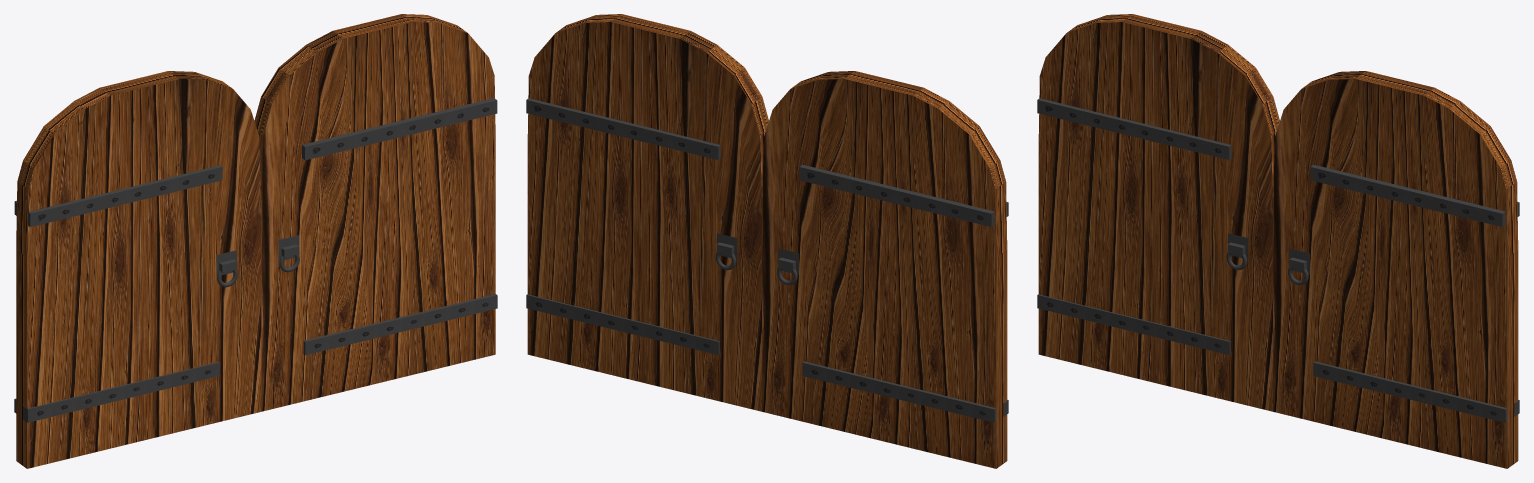
Rendered from cavedoor.glb.
3 views of the same model, side by side, from view 1: azimuth 30°, elevation 25°; view 2: azimuth 150°, elevation 25°; view 3: azimuth 330°, elevation 25° (orthographic).
Visible parts, largest first — view 1: Cube.001, Cube.005; view 2: Cube.001, Cube.005; view 3: Cube.005, Cube.001.
Part boxes in pixels (box(x1,y1,x2,y2)): Cube.001: box(14, 71, 261, 468); Cube.005: box(254, 14, 497, 411); Cube.001: box(762, 71, 1008, 468); Cube.005: box(526, 14, 768, 411); Cube.005: box(1273, 71, 1519, 468); Cube.001: box(1037, 14, 1279, 411).
Bounding box in the file's own units: 1.37 × 0.985 × 0.0884.
Materials: 3 (3 with a texture image).
